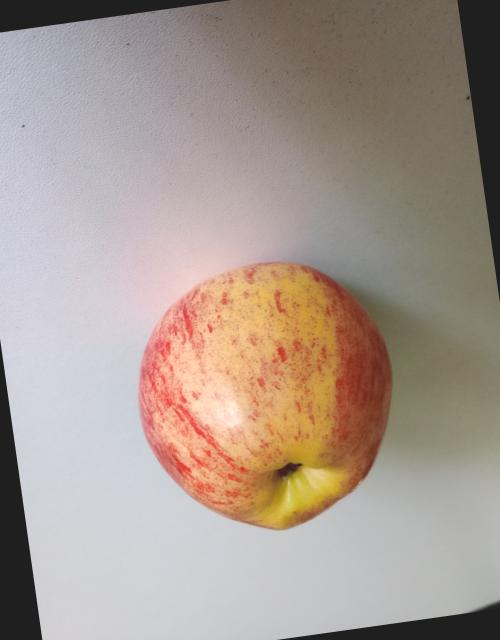Manzana: (114, 202, 446, 567)
